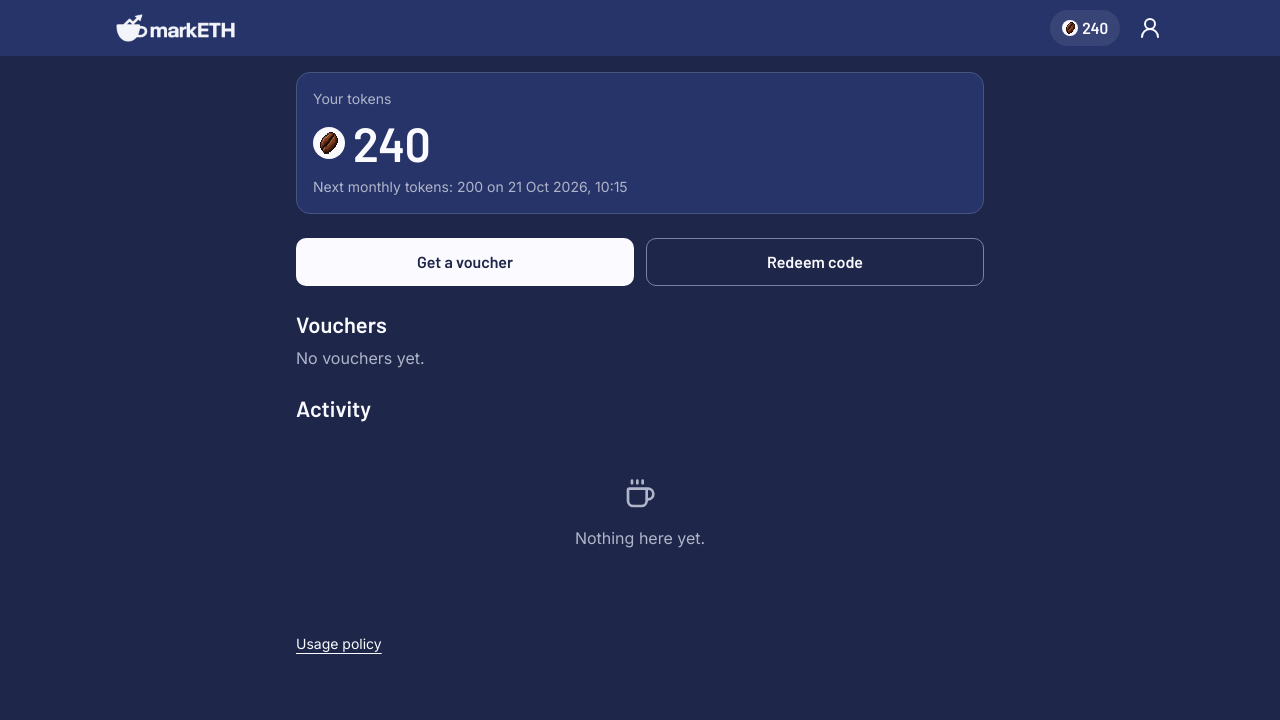
Scenario: the redeem sheet › formats the code as it is typed: capitals, a dash after every four, no more than a code has
Click the button "Redeem code".
click(815, 262)  # box left=646, top=238, right=984, bottom=286
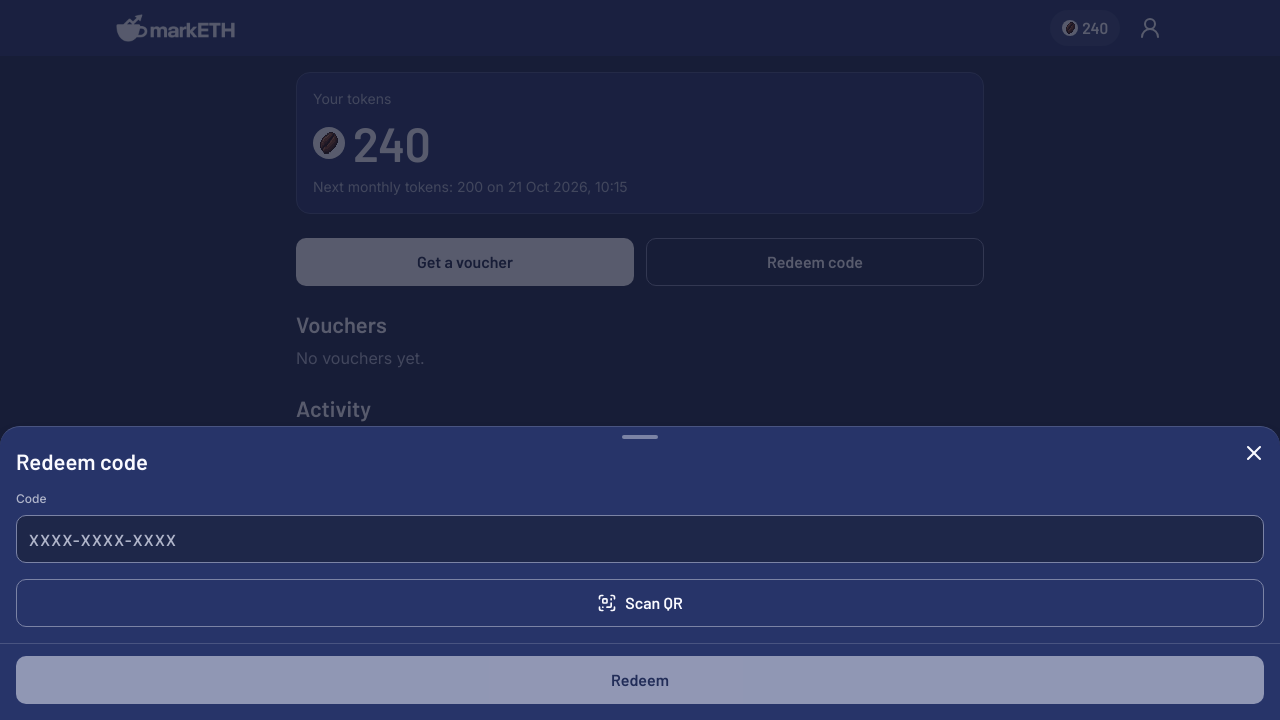
Type "4f7kq" into the field labelled "Code".
click(640, 539); type("4f7kq")  # box left=16, top=515, right=1264, bottom=563
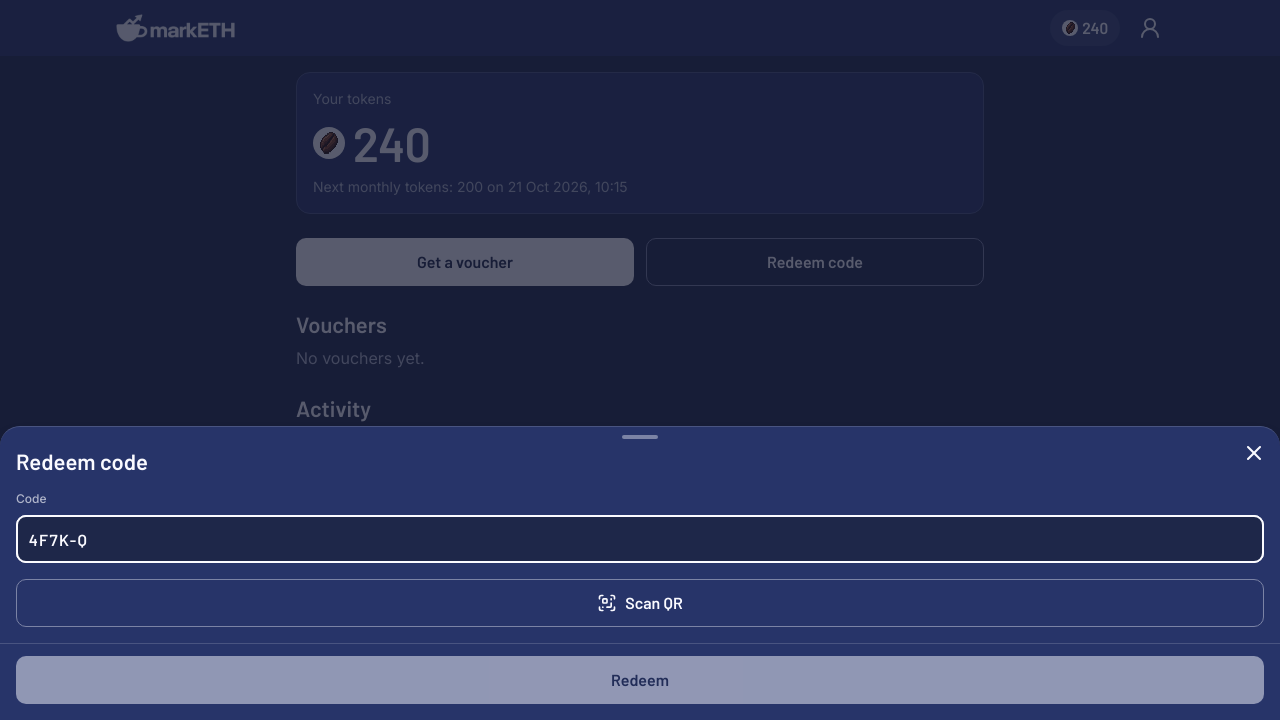
Expected: the button "Redeem" is disabled, left=16, top=656, right=1264, bottom=704
Expected: the field labelled "Code" holds "4F7K-Q"
Type "2m9 xab3zzzz" into the field labelled "Code".
click(640, 539); type("2m9 xab3zzzz")  # box left=16, top=515, right=1264, bottom=563
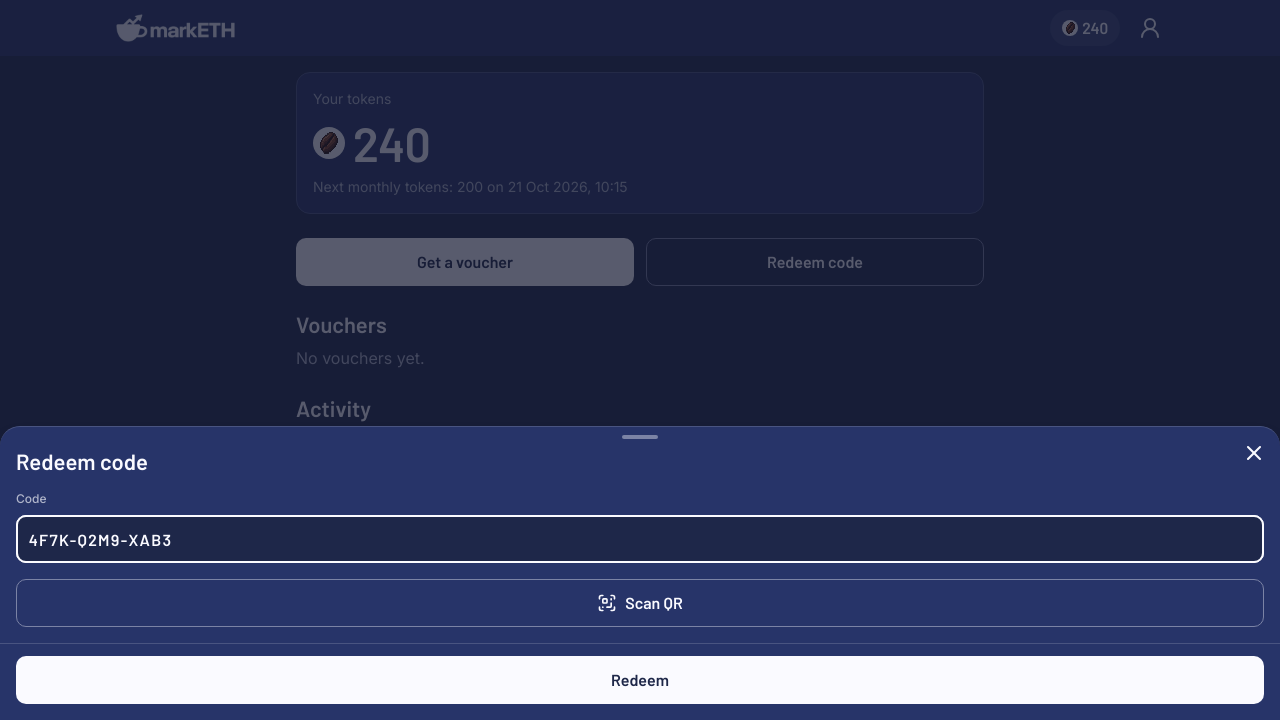
Expected: the field labelled "Code" holds "4F7K-Q2M9-XAB3", left=16, top=515, right=1264, bottom=563
Expected: the button "Redeem" is enabled, left=16, top=656, right=1264, bottom=704
